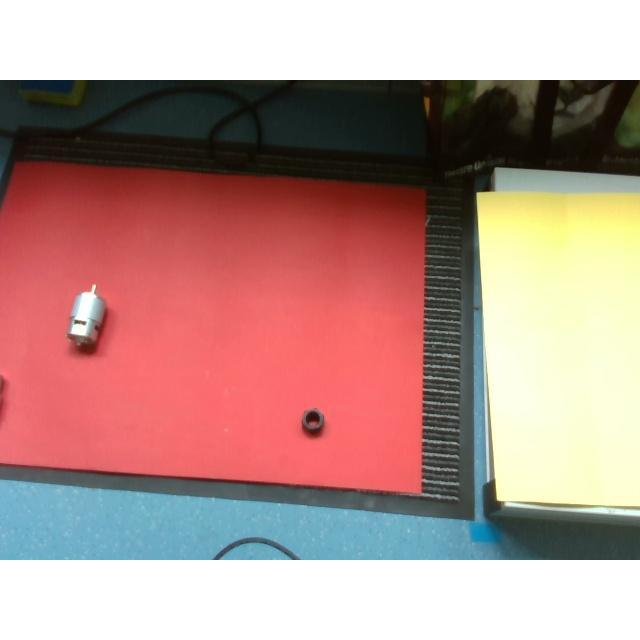M20: (301, 410, 325, 434)
Motor2: (66, 284, 105, 348)
